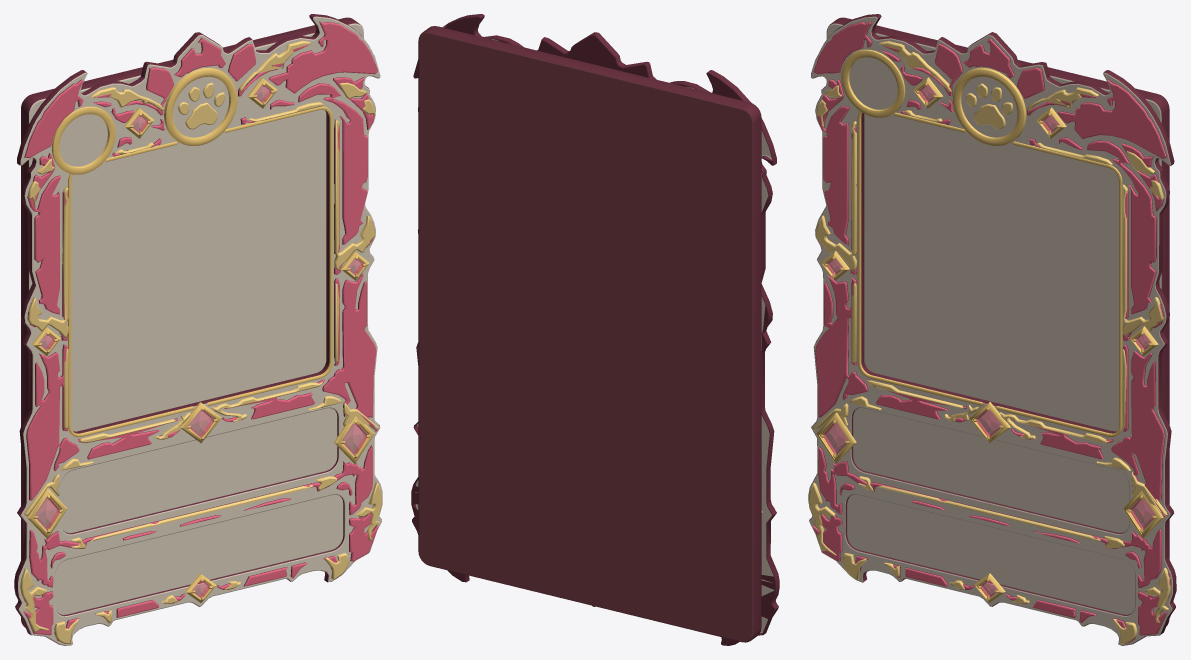
The model's file is card-beast.glb.
The picture shows the model from 3 angles, left to right: view 1: azimuth 30°, elevation 25°; view 2: azimuth 150°, elevation 25°; view 3: azimuth 330°, elevation 25°; orthographic projection.
Parts seen in each view (by area): view 1: slab, frame, crimson-crystals, name-plate, stat-plate, gold-claws, rim-window, gem-bezels, gem, medal-disc, paw-ring, paw-well (+2 smaller); view 2: slab, frame; view 3: slab, frame, crimson-crystals, name-plate, stat-plate, gold-claws, rim-window, gem-bezels, gem, medal-disc, paw-ring, paw-well (+2 smaller).
Part boxes in pixels (x1,y1,x2,y2): slab: (21, 17, 363, 627); frame: (14, 14, 382, 645); crimson-crystals: (23, 21, 378, 643); name-plate: (61, 408, 337, 533); stat-plate: (55, 494, 343, 614); gold-claws: (20, 40, 382, 644); rim-window: (68, 106, 332, 437); gem-bezels: (27, 77, 374, 603); gem: (35, 84, 366, 597); medal-disc: (59, 114, 107, 166); paw-ring: (164, 67, 237, 145); paw-well: (173, 76, 229, 137); slab: (418, 26, 761, 642); frame: (411, 14, 779, 645); slab: (826, 17, 1169, 625); frame: (808, 14, 1176, 645); crimson-crystals: (812, 21, 1170, 643); name-plate: (853, 408, 1129, 532); stat-plate: (847, 494, 1134, 614); gold-claws: (809, 41, 1170, 644); rim-window: (857, 111, 1122, 436); gem-bezels: (816, 77, 1163, 602); gem: (823, 84, 1155, 597); medal-disc: (849, 57, 897, 109); paw-ring: (953, 67, 1026, 145); paw-well: (961, 76, 1017, 137).
Bounding box in the file's own units: 0.9662 × 1.47 × 0.081.
